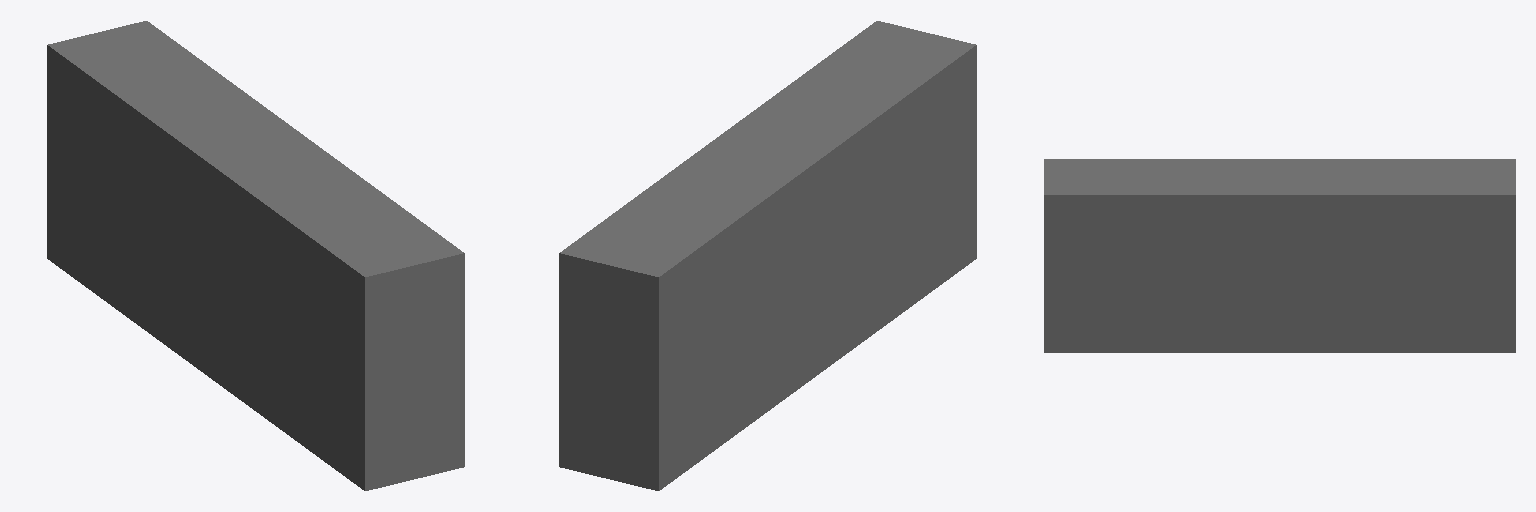
URDF robot description (realsense2_camera):
<?xml version="1.0" ?>
<!-- =================================================================================== -->
<!-- |    This document was autogenerated by xacro from urdf/test_r430_camera.urdf.xacro | -->
<!-- |    EDITING THIS FILE BY HAND IS NOT RECOMMENDED                                 | -->
<!-- =================================================================================== -->
<robot name="realsense2_camera">
  <material name="aluminum">
    <color rgba="0.5 0.5 0.5 1"/>
  </material>
  <material name="plastic">
    <color rgba="0.1 0.1 0.1 1"/>
  </material>
  <link name="base_link"/>
  <!-- camera body, with origin at bottom screw mount -->
  <joint name="camera_joint" type="fixed">
    <origin rpy="0 0 0" xyz="0 0 0"/>
    <parent link="base_link"/>
    <child link="camera_link"/>
  </joint>
  <link name="camera_link">
    <visual>
      <origin rpy="1.5707963267948966 0 1.5707963267948966" xyz="0 -0.0275 0.0195"/>
      <geometry>
        <box size="0.105 0.039 0.019"/>
        <!--<mesh filename="package://realsense2_description/meshes/r430/r430.dae" />-->
      </geometry>
      <material name="aluminum"/>
    </visual>
    <collision>
      <origin rpy="0 0 0" xyz="0.0 0.0 0.0195"/>
      <geometry>
        <box size="0.019 0.105 0.039"/>
      </geometry>
    </collision>
    <inertial>
      <!-- The following are not reliable values, and should not be used for modeling -->
      <mass value="0.564"/>
      <origin xyz="0 0 0"/>
      <inertia ixx="0.003881243" ixy="0.0" ixz="0.0" iyy="0.000498940" iyz="0.0" izz="0.003879257"/>
    </inertial>
  </link>
</robot>

--- What the picture shows (computed from the rendered views, not written in the file) ---
3 views of the same robot in one strip: view 1: azimuth 30°, elevation 25°; view 2: azimuth 150°, elevation 25°; view 3: azimuth 270°, elevation 25° (orthographic).
Robot: realsense2_camera — 2 links, 1 joints (1 fixed); root link base_link; default pose: all joints at 0.
Visible links, largest first — view 1: camera_link; view 2: camera_link; view 3: camera_link.
Boxes of the visible links, x1,y1,x2,y2 form: camera_link: (47, 21, 464, 490); camera_link: (559, 21, 976, 490); camera_link: (1044, 159, 1515, 352).
Bounding box of the posed robot: 0.019 × 0.105 × 0.039 m (x, y, z).
Geometry: primitives only (box / cylinder / sphere), no mesh files.
